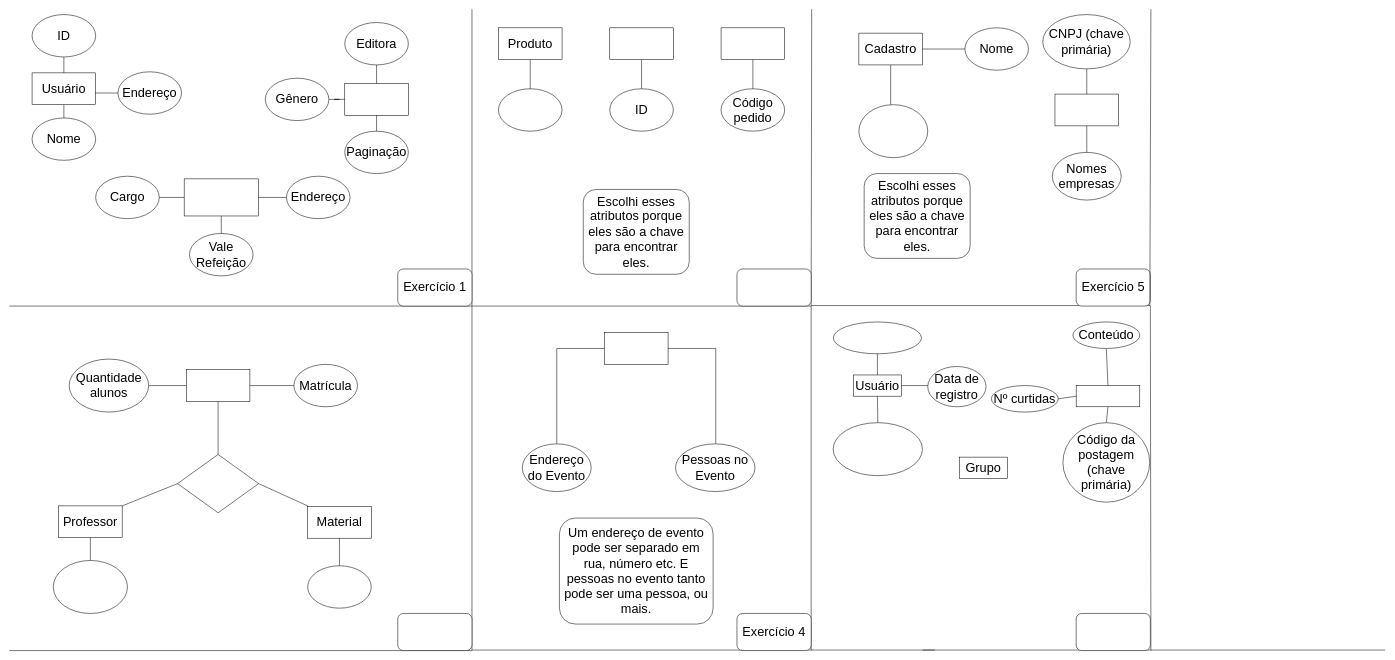
Image size: 1395x660. Some labels were removed from this diagram. Here are the shapes that lost their labels. From the top down, the centre of each, then its label:
(641,43): Cliente
(753,43): Pedido
(376,99): Livro
(530,109): Código barra
(1086,110): Empresas
(893,131): ID (chave primária)
(221,197): Empregado
(773,287): Exercício 3
(636,348): Evento
(877,337): Nº seguidores
(218,385): Aluno
(1108,396): Postagem
(877,449): Nome (chave primária)
(218,483): Disciplina
(90,586): Quantidade professor
(339,586): Preço
(434,632): Exercício 2
(1113,632): Exercício 6
